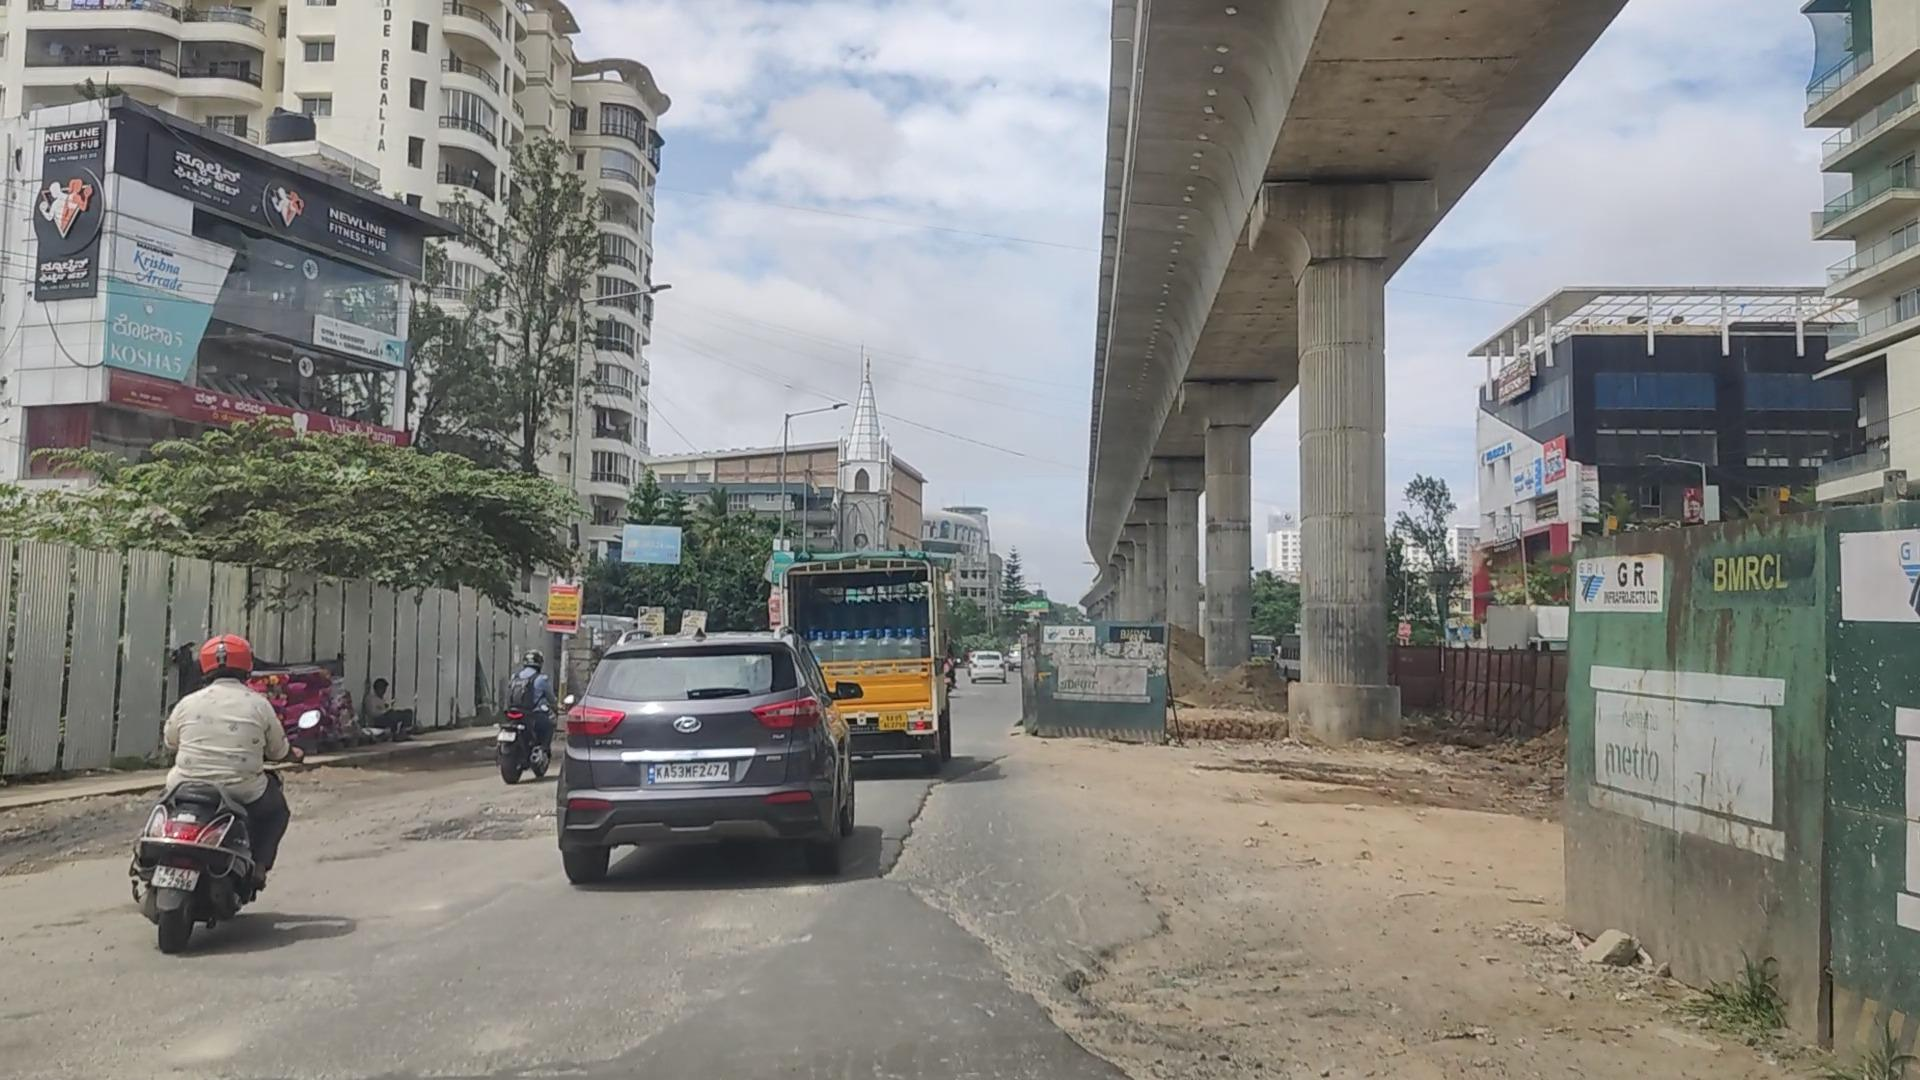LMV: (562, 630, 855, 884), (161, 641, 284, 952)
RoadDamages: (975, 903, 1126, 1060), (866, 798, 965, 913), (454, 789, 547, 857), (367, 802, 452, 864), (922, 752, 1011, 798)
